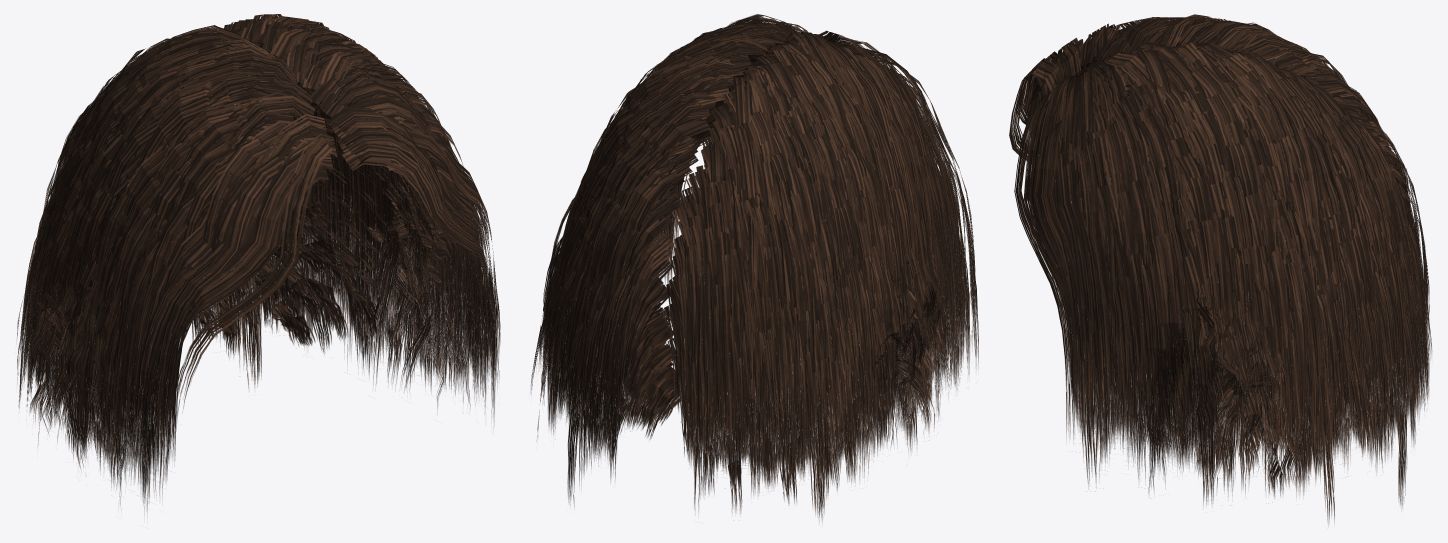
File: mi_long.glb
The picture shows the model from 3 angles, left to right: view 1: azimuth 30°, elevation 25°; view 2: azimuth 150°, elevation 25°; view 3: azimuth 270°, elevation 25°; orthographic projection. The views are drawn at different scales.
Visible parts, largest first — view 1: MH_coiffure_mi_long; view 2: MH_coiffure_mi_long; view 3: MH_coiffure_mi_long.
Boxes of the visible parts, x1,y1,x2,y2 form: MH_coiffure_mi_long: (17,14,500,511); MH_coiffure_mi_long: (531,14,978,522); MH_coiffure_mi_long: (1009,14,1432,523).
Bounding box in the file's own units: 0.2085 × 0.2249 × 0.1977.
Materials: 1 (1 with a texture image).
